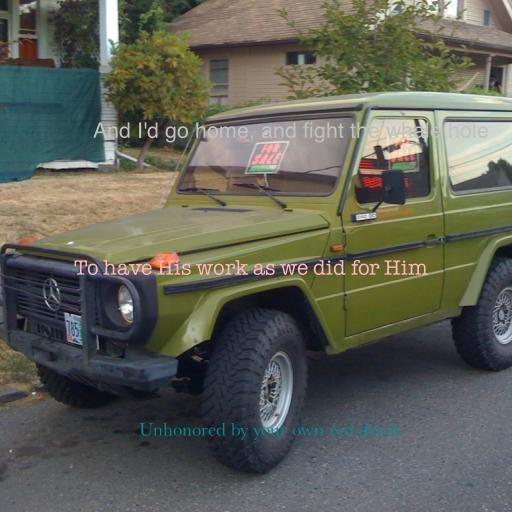American Typewriter: (74, 259, 428, 276)
Apple Chancery: (93, 122, 489, 143)
Baskerville: (139, 422, 401, 441)
